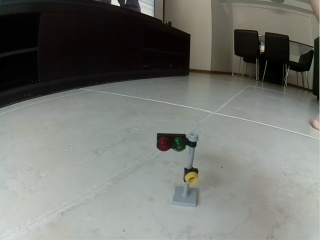Red Traffic Light: (156, 131, 199, 207)
